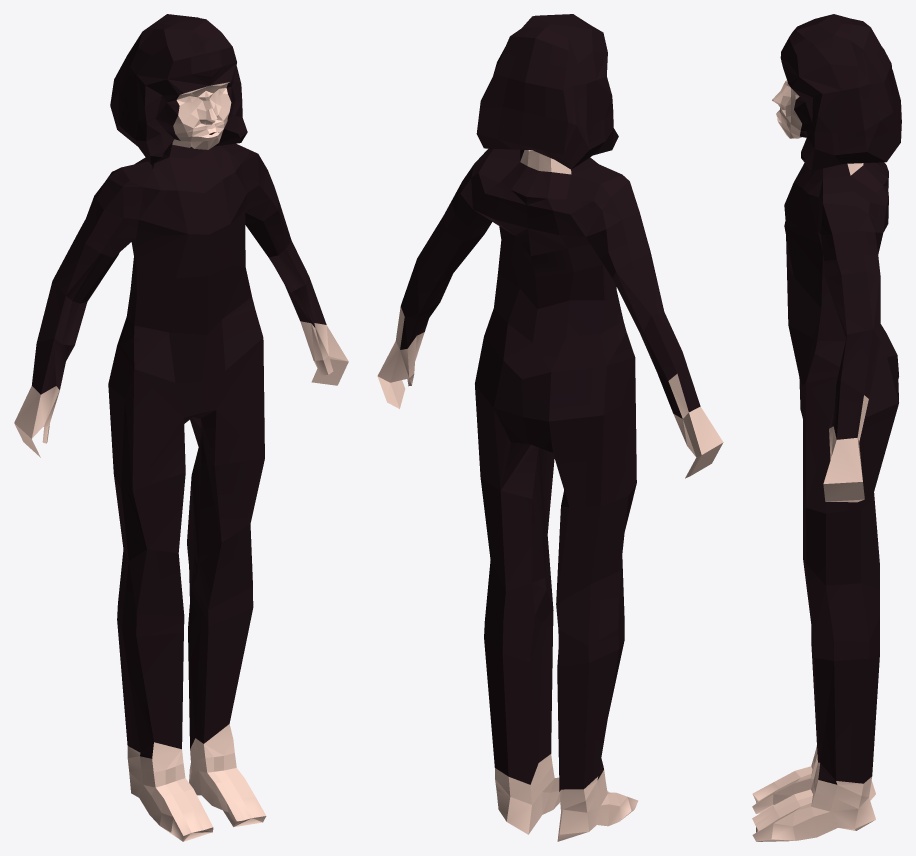
Rendered from Sara_modelistests.fbx.
The picture shows the model from 3 angles, left to right: view 1: azimuth 30°, elevation 25°; view 2: azimuth 150°, elevation 25°; view 3: azimuth 270°, elevation 25°; orthographic projection. The views are drawn at different scales.
Parts seen in each view (by area): view 1: Plane.001; view 2: Plane.001; view 3: Plane.001.
Part boxes in pixels (bbox=[...]): Plane.001: bbox=[14, 14, 348, 841]; Plane.001: bbox=[377, 14, 723, 841]; Plane.001: bbox=[752, 14, 901, 841].
Bounding box in the file's own units: 218 × 513 × 87.08.
